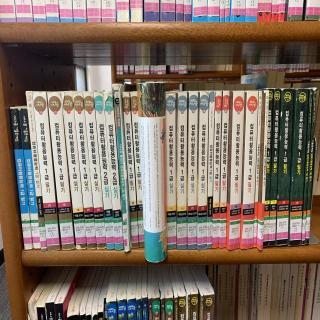book-spine: (47, 91, 75, 250), (33, 91, 60, 251), (61, 91, 87, 249), (73, 93, 97, 249), (84, 91, 106, 250), (26, 90, 47, 251), (10, 107, 33, 250), (94, 93, 115, 249), (103, 93, 124, 249), (19, 108, 41, 250), (289, 88, 308, 246), (227, 90, 245, 250), (113, 84, 130, 251), (241, 91, 258, 250), (122, 92, 139, 247), (277, 88, 293, 246), (131, 92, 144, 247), (197, 91, 209, 250), (306, 88, 317, 244), (177, 91, 187, 250), (188, 91, 198, 250), (263, 88, 273, 247), (270, 88, 280, 247), (302, 88, 312, 245), (166, 93, 176, 249), (260, 90, 269, 250), (220, 91, 229, 249), (206, 92, 215, 248), (213, 91, 222, 247), (253, 90, 261, 248)
